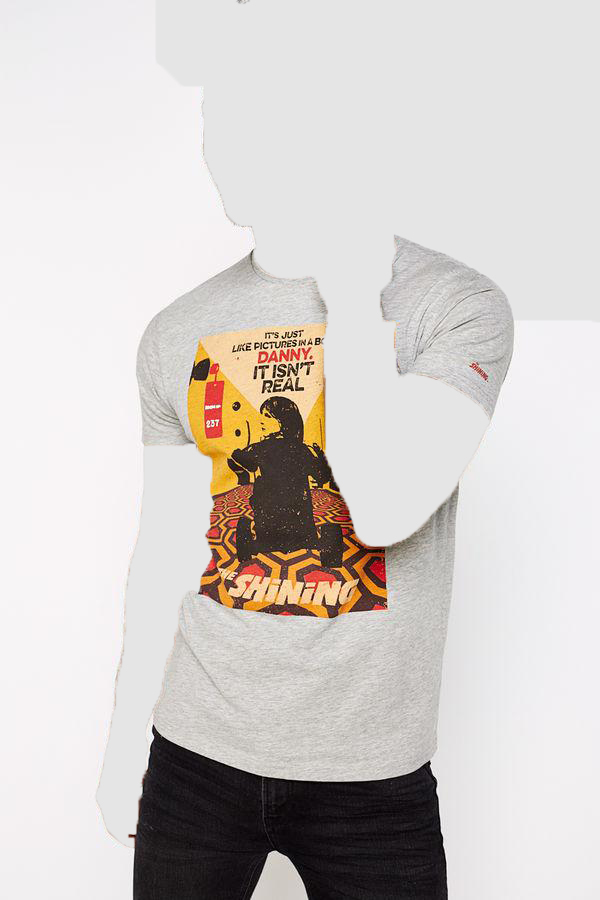teeshirt: (126, 232, 523, 789)
